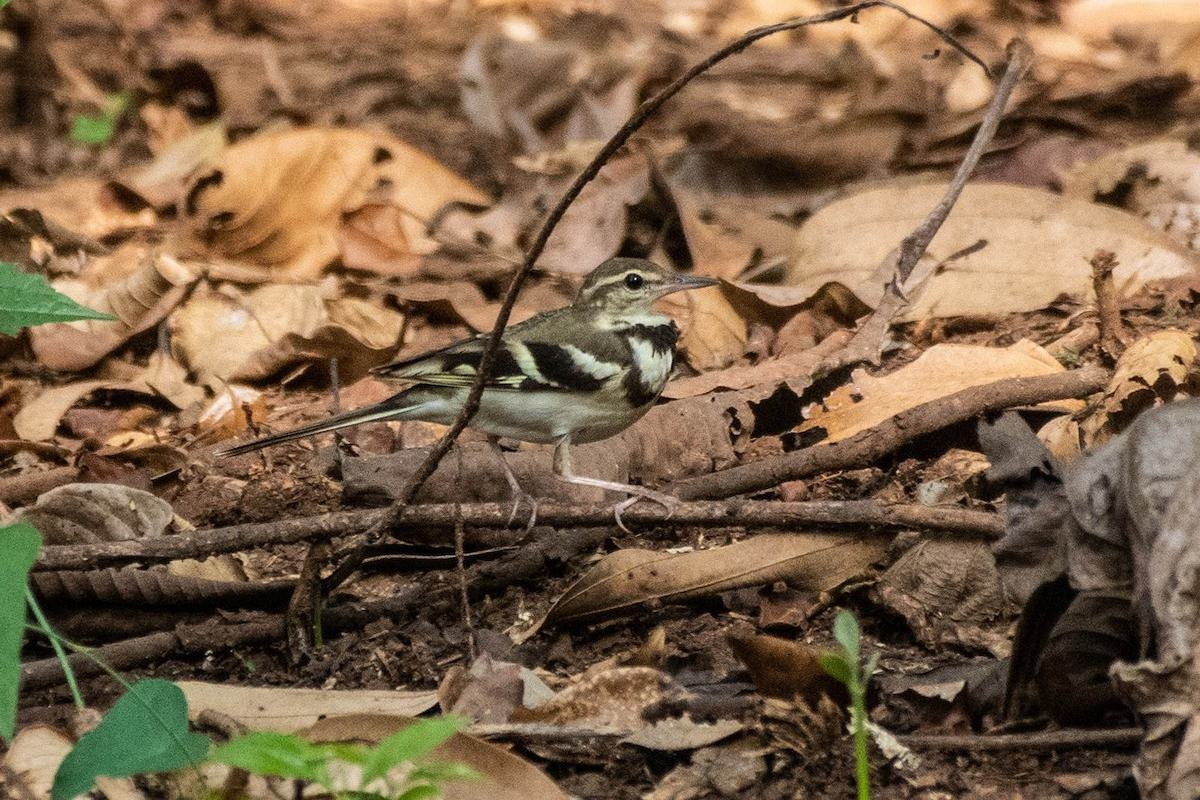wagtail: (275, 233, 745, 514)
